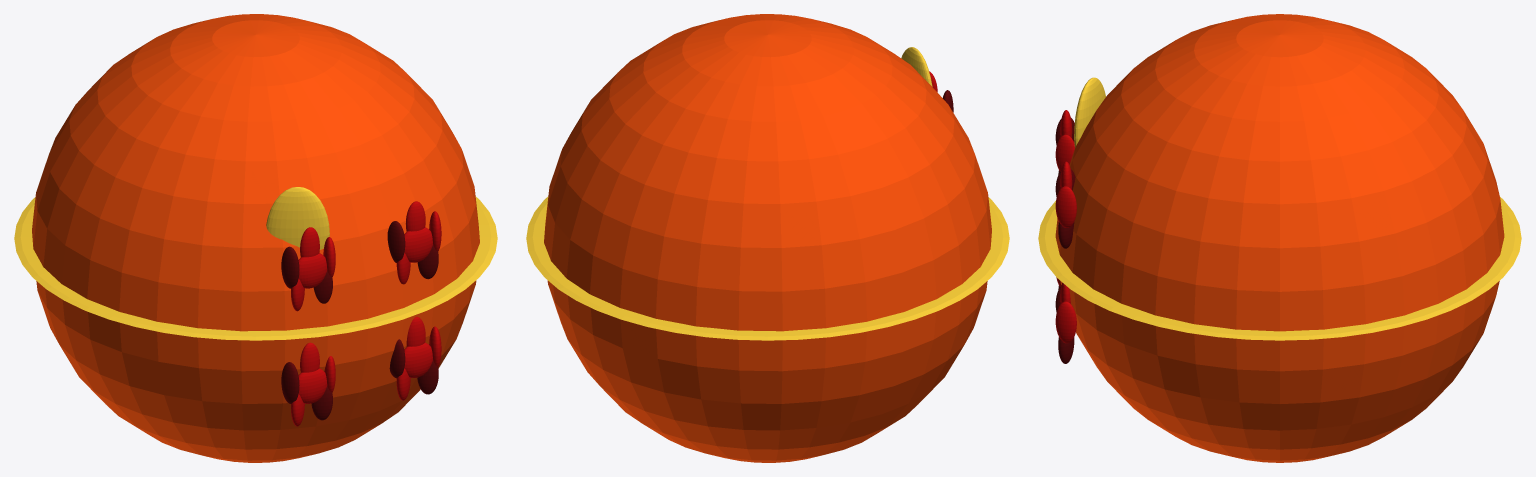
The model's file is esfera_dragon_4_estrellas.obj.
The picture shows the model from 3 angles, left to right: view 1: azimuth 30°, elevation 25°; view 2: azimuth 150°, elevation 25°; view 3: azimuth 270°, elevation 25°; orthographic projection.
Visible parts, largest first — view 1: Esfera_Cristal_Exterior, Halo_Ecuatorial, Reflejo_Superior, Estrella_1_Centro, Estrella_2_Centro, Estrella_4_Centro, Estrella_3_Centro, Estrella_3_Punta_2, Estrella_1_Punta_2, Estrella_2_Punta_2, Estrella_1_Punta_1, Estrella_2_Punta_1 (+1 smaller); view 2: Esfera_Cristal_Exterior, Halo_Ecuatorial, Reflejo_Superior; view 3: Esfera_Cristal_Exterior, Halo_Ecuatorial, Reflejo_Superior, Estrella_4_Punta_5, Estrella_2_Punta_5, Estrella_1_Punta_5.
Part boxes in pixels (<box>): Esfera_Cristal_Exterior: <box>32,14,479,462</box>; Halo_Ecuatorial: <box>14,196,497,340</box>; Reflejo_Superior: <box>266,187,329,249</box>; Estrella_1_Centro: <box>298,253,327,288</box>; Estrella_2_Centro: <box>404,227,432,262</box>; Estrella_4_Centro: <box>404,342,432,377</box>; Estrella_3_Centro: <box>298,368,327,403</box>; Estrella_3_Punta_2: <box>281,362,299,403</box>; Estrella_1_Punta_2: <box>281,246,299,288</box>; Estrella_2_Punta_2: <box>387,221,405,262</box>; Estrella_1_Punta_1: <box>300,227,319,257</box>; Estrella_2_Punta_1: <box>405,201,425,231</box>; Esfera_Cristal_Exterior: <box>544,14,991,462</box>; Halo_Ecuatorial: <box>526,196,1009,340</box>; Reflejo_Superior: <box>901,47,932,86</box>; Esfera_Cristal_Exterior: <box>1055,14,1504,462</box>; Halo_Ecuatorial: <box>1038,197,1521,340</box>; Reflejo_Superior: <box>1074,77,1105,147</box>; Estrella_4_Punta_5: <box>1055,301,1076,343</box>; Estrella_2_Punta_5: <box>1055,186,1076,227</box>; Estrella_1_Punta_5: <box>1055,134,1074,171</box>.
Bounding box in the file's own units: 5.7 × 5.3 × 5.7.
